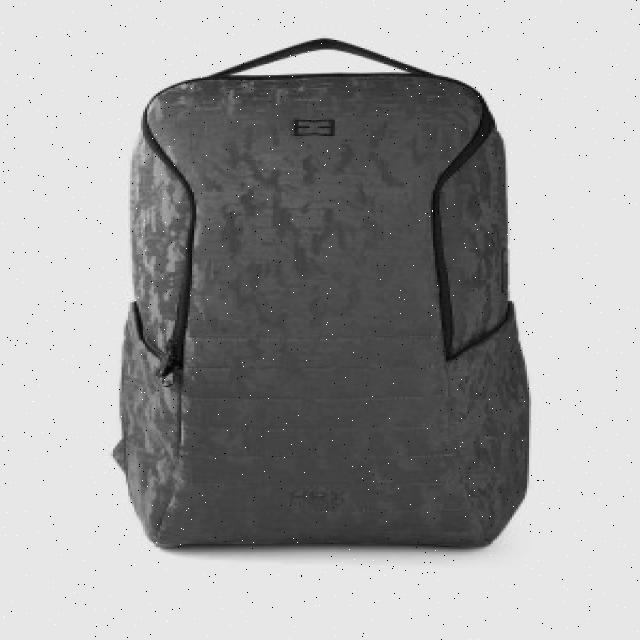backpack: (111, 37, 531, 549)
